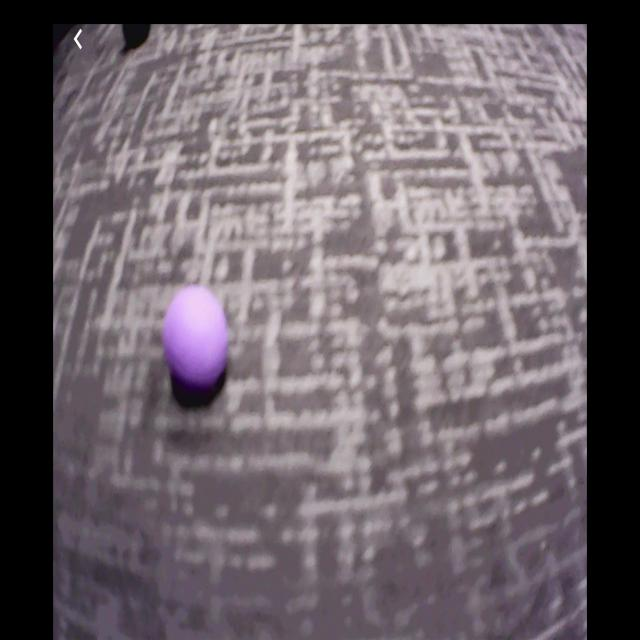ball: (163, 288, 231, 383)
